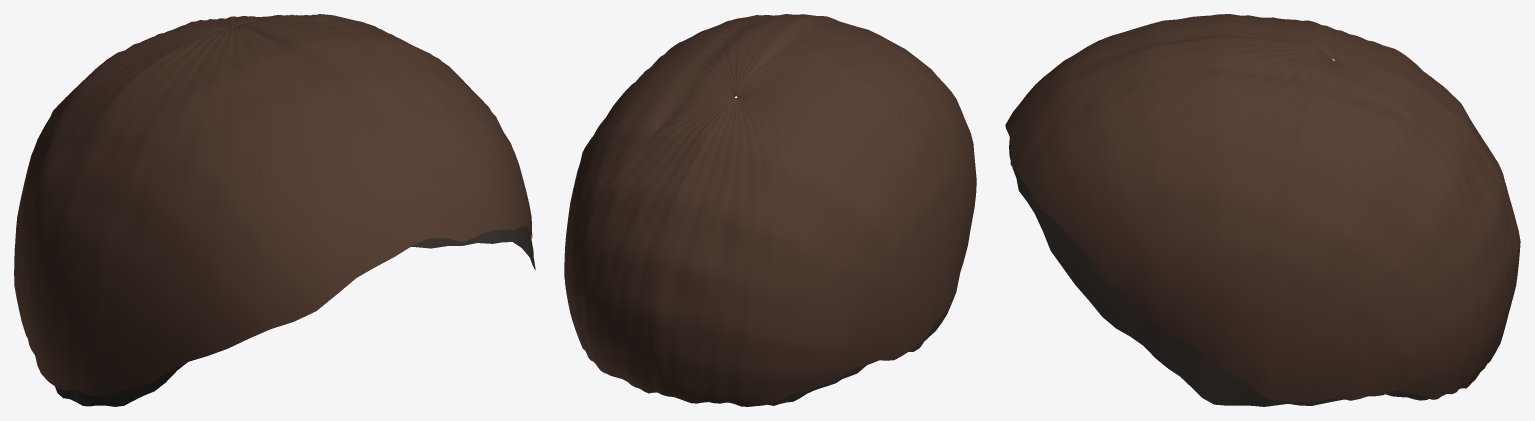
The model's file is hair-clean-v6.glb.
3 renders of one model, left to right at view 1: azimuth 30°, elevation 25°; view 2: azimuth 150°, elevation 25°; view 3: azimuth 270°, elevation 25°, orthographic. The views are drawn at different scales.
Visible parts, largest first — view 1: HairNova, HairAtlas; view 2: HairNova, HairAtlas; view 3: HairNova, HairAtlas.
Part boxes in pixels (x1=…): HairNova: x1=14, y1=14, x2=532, y2=396; HairAtlas: x1=55, y1=226, x2=535, y2=406; HairNova: x1=564, y1=14, x2=976, y2=406; HairAtlas: x1=657, y1=95, x2=959, y2=405; HairNova: x1=1005, y1=14, x2=1520, y2=402; HairAtlas: x1=1009, y1=58, x2=1429, y2=406.
Size of the model in its own units: 0.1736 by 0.1368 by 0.2042.
